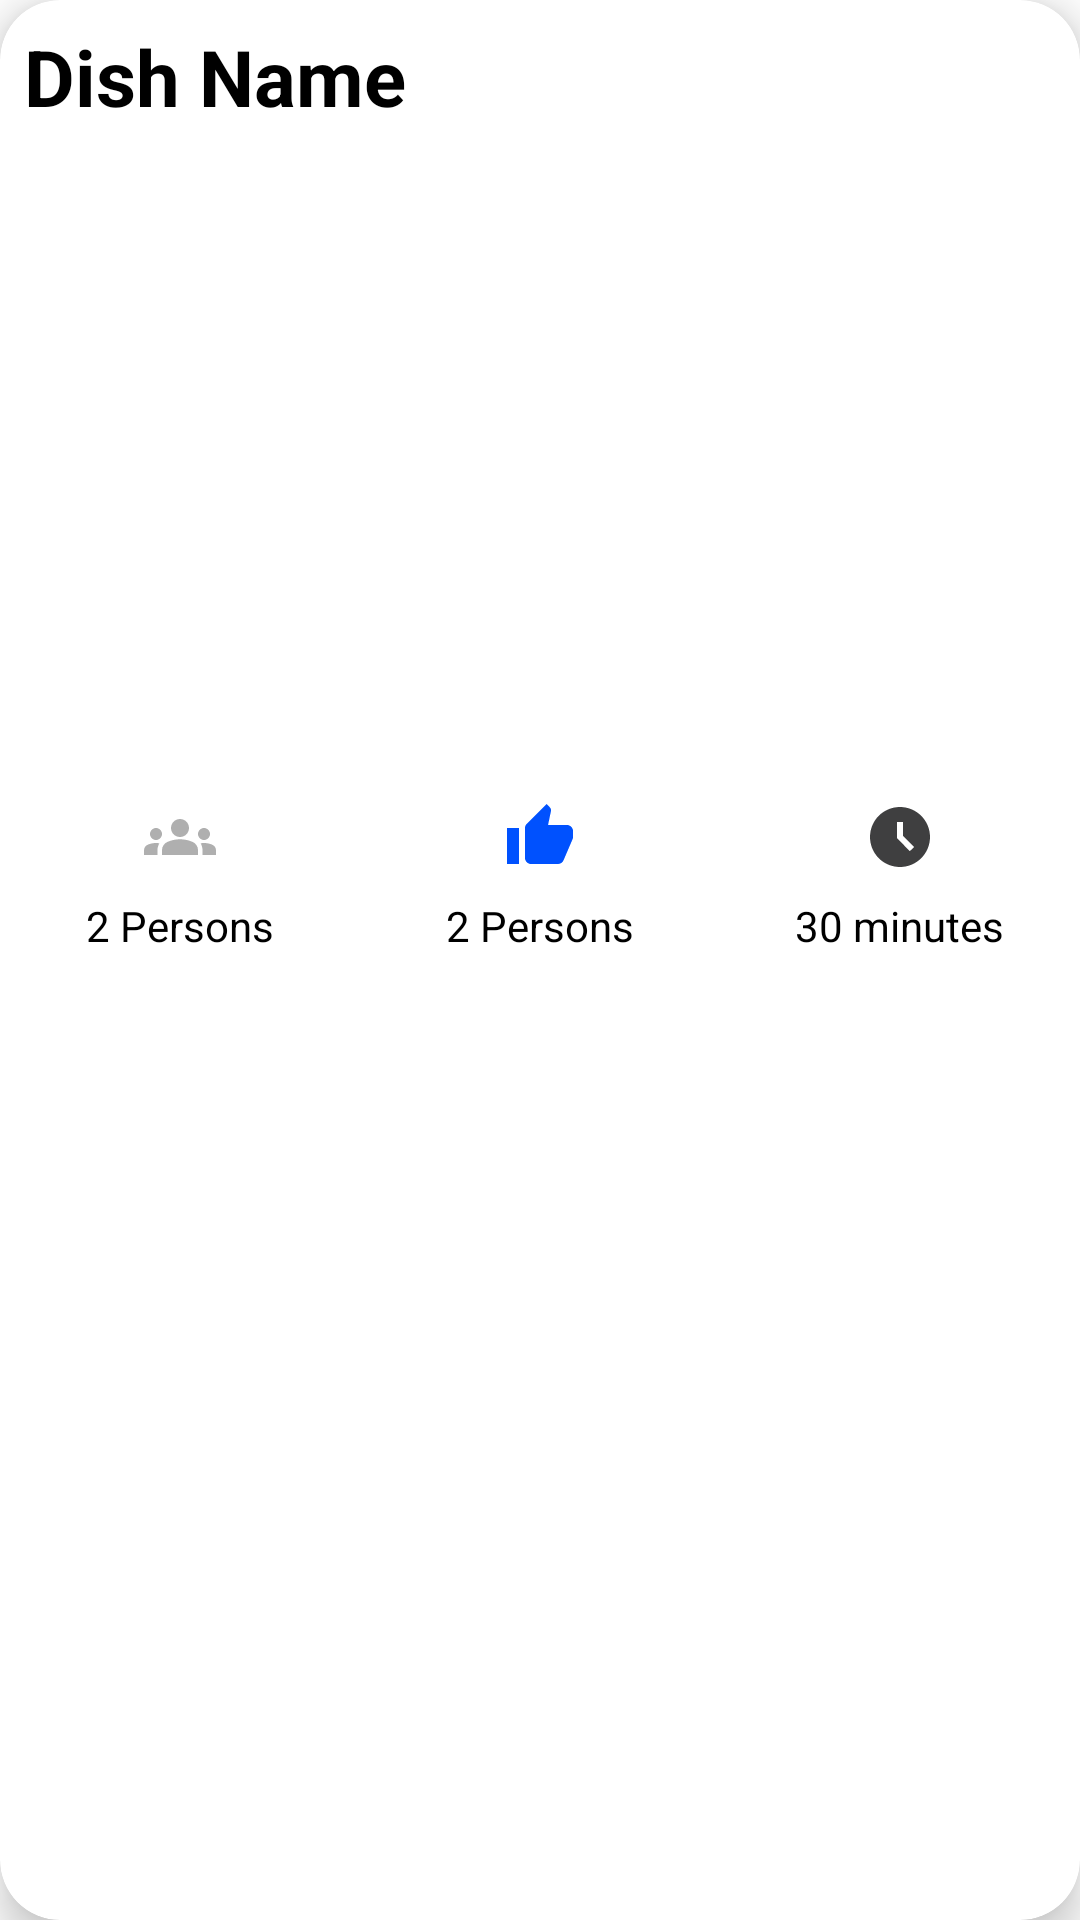

Icon bounding boxes for this 1080px×1920px phone screenshot, format detection(x1, y1, x2, y2):
like: detection(507, 804, 573, 864)
servings: detection(144, 819, 216, 855)
time: detection(870, 807, 930, 867)
